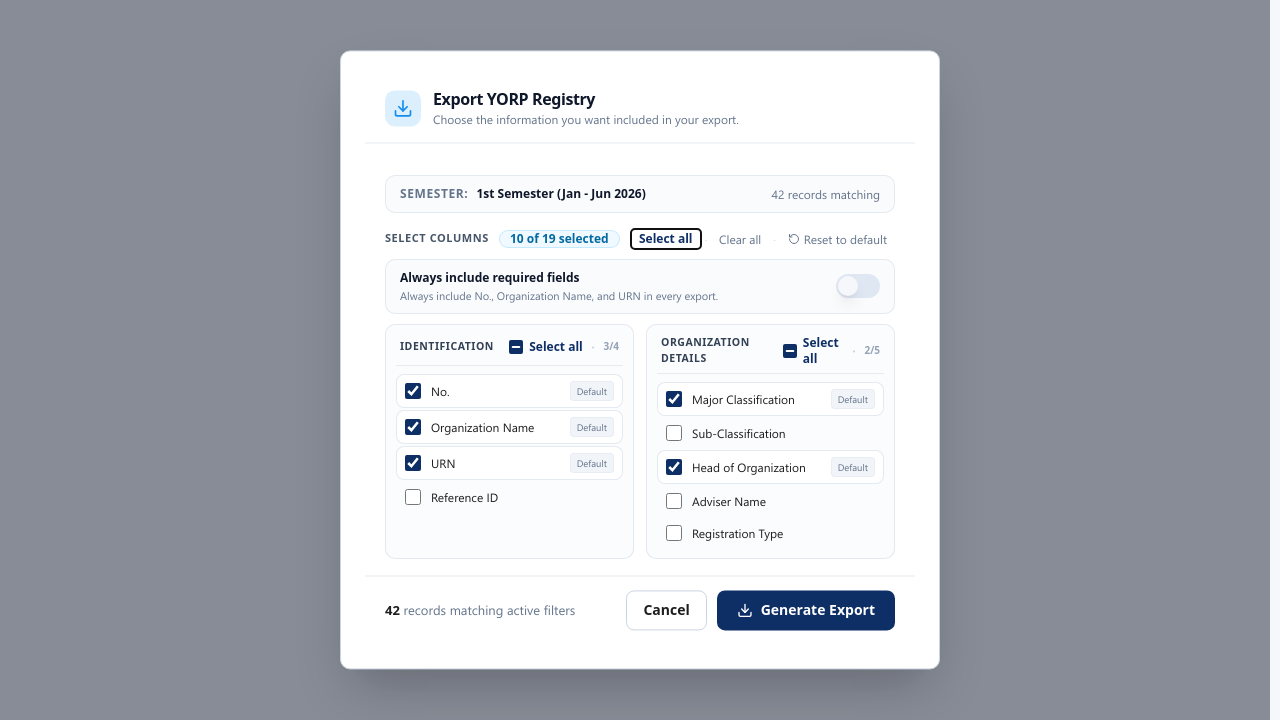
it: YorpRegistryExportDialog Per-Section Controls & Required Fields Option › G. Required mode ON: No., Organization Name, URN become locked and marked Required
The width and height of the screenshot is (1280, 720).
Note: Clear all first
Click the button "Clear all" at (740, 239), box [711, 229, 769, 249]
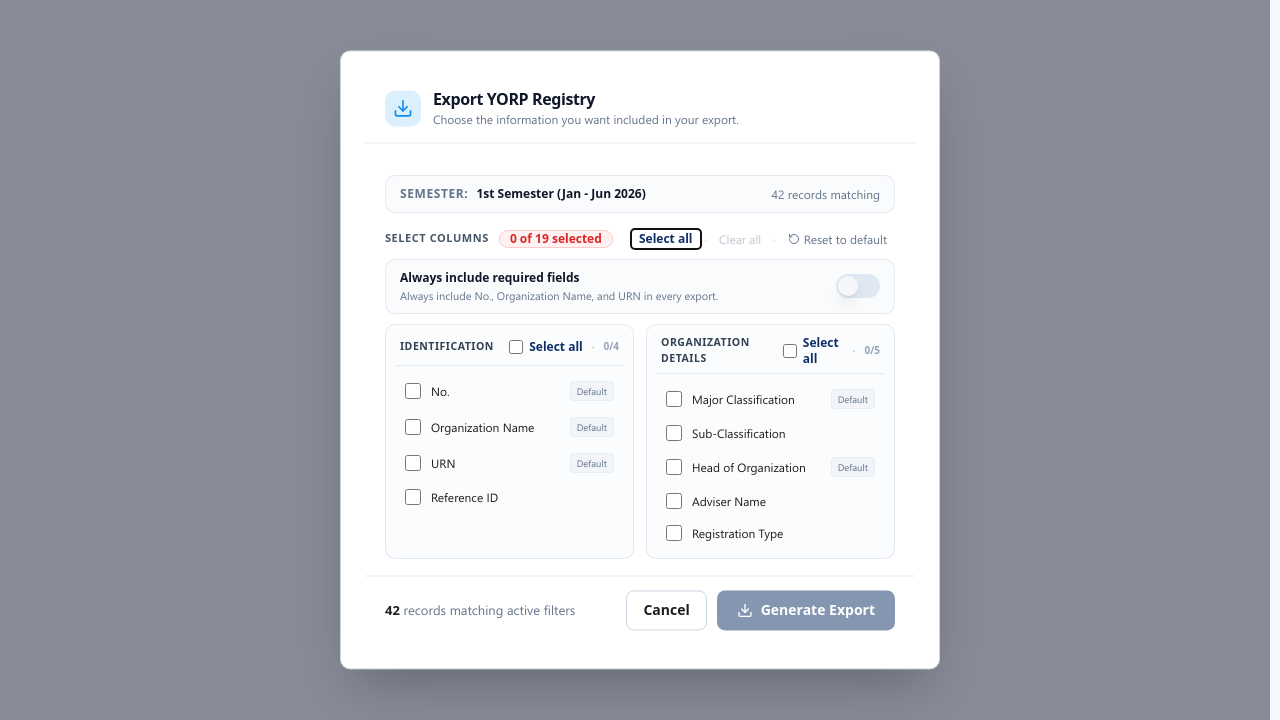
Note: Turn required mode ON
Click the switch named "always include required fields" at (858, 286), box [836, 274, 880, 298]
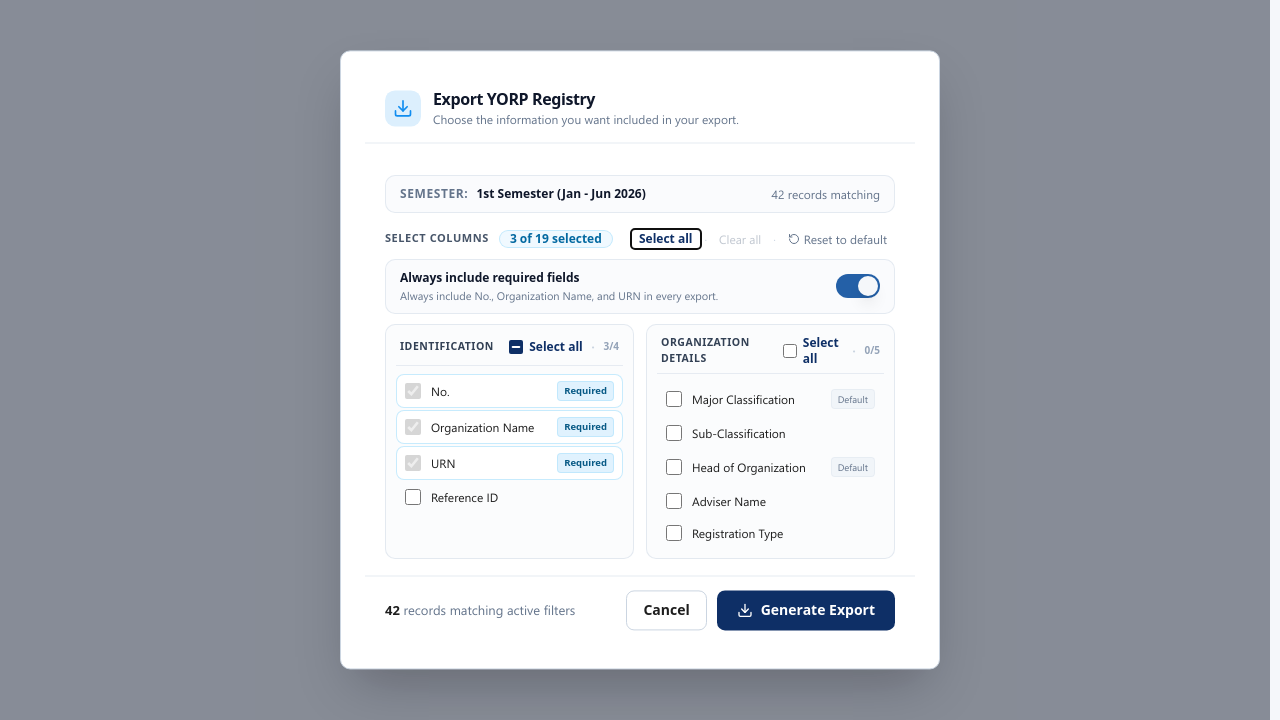
expect the text "3/4" is shown: met, box [603, 340, 619, 354]
expect the checkbox labelled "No." is checked: met, box [405, 383, 421, 399]
expect the checkbox labelled "No." is disabled: met, box [405, 383, 421, 399]
